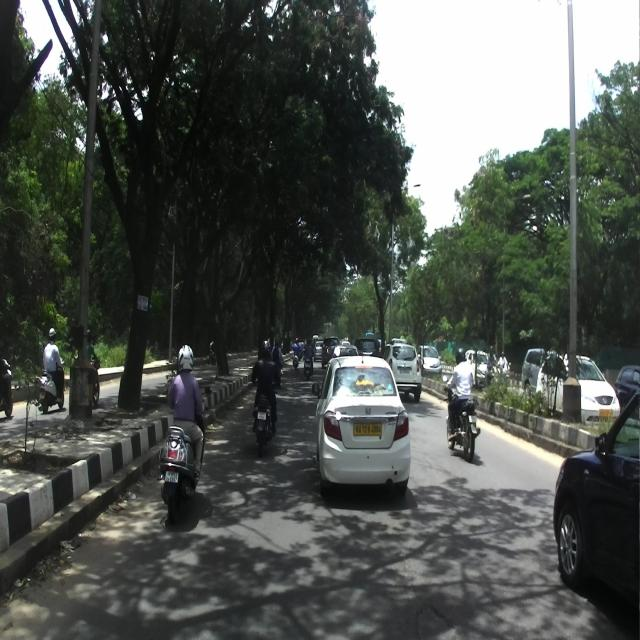car: (552, 382, 639, 598), (310, 354, 410, 506)
motorcycle: (442, 374, 481, 461), (252, 372, 280, 458)
scooter: (157, 385, 212, 522)
